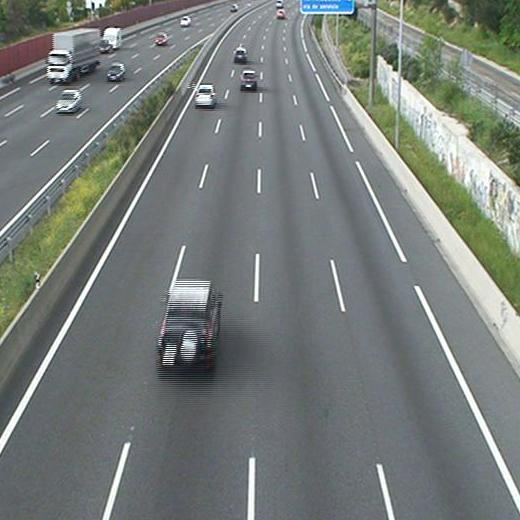car: (158, 281, 220, 361), (195, 85, 216, 105), (241, 71, 258, 87), (234, 49, 247, 61), (276, 10, 285, 19)
